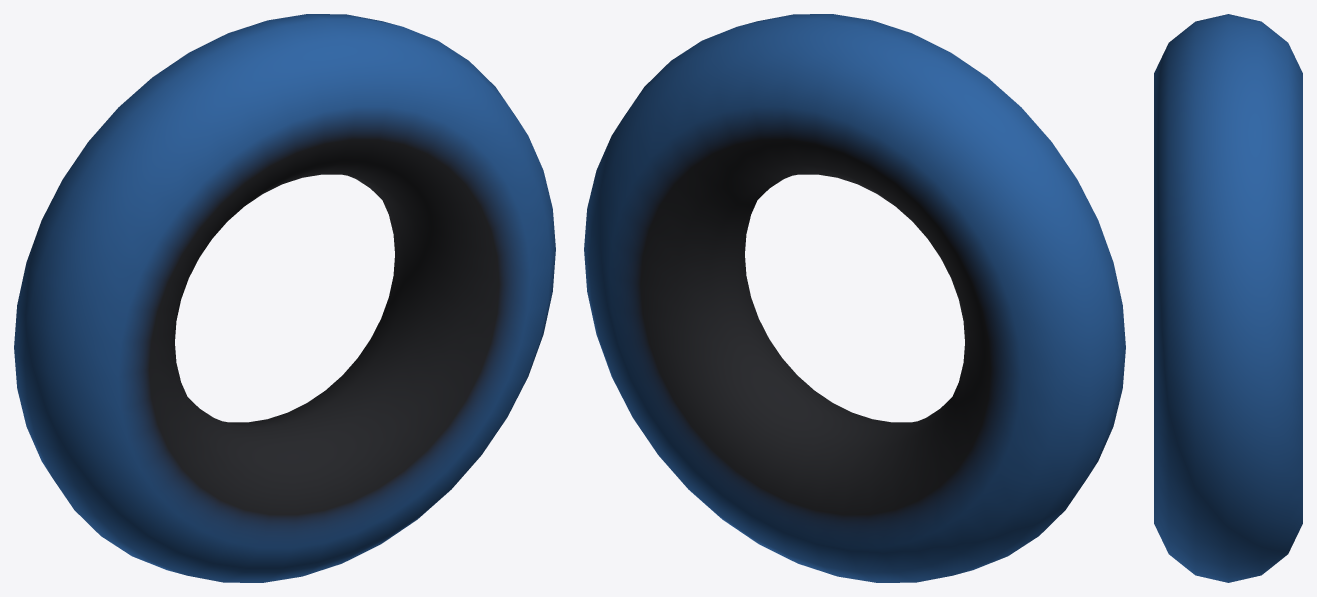
File: Park_Tire_Blue.fbx
The picture shows the model from 3 angles, left to right: view 1: azimuth 30°, elevation 25°; view 2: azimuth 150°, elevation 25°; view 3: azimuth 270°, elevation 25°; orthographic projection. The views are drawn at different scales.
Parts seen in each view (by area): view 1: Park_Tire_Blue; view 2: Park_Tire_Blue; view 3: Park_Tire_Blue.
Part boxes in pixels (x1,y1,x2,y2): Park_Tire_Blue: (14, 14, 555, 582); Park_Tire_Blue: (584, 14, 1125, 582); Park_Tire_Blue: (1154, 14, 1302, 582).
Bounding box in the file's own units: 8.2 × 8.2 × 2.14.
